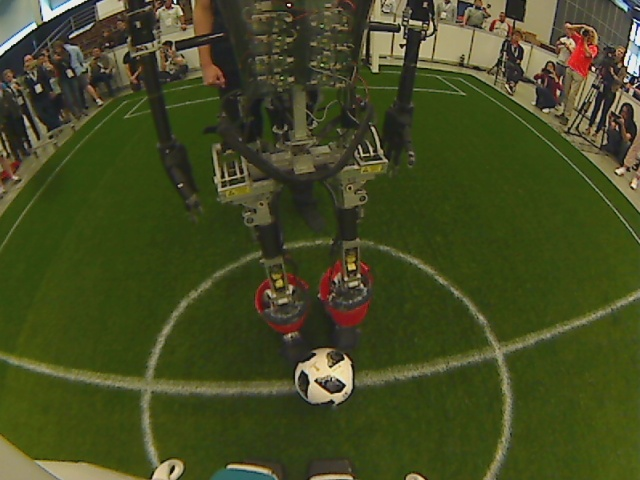ball: (292, 346, 357, 406)
